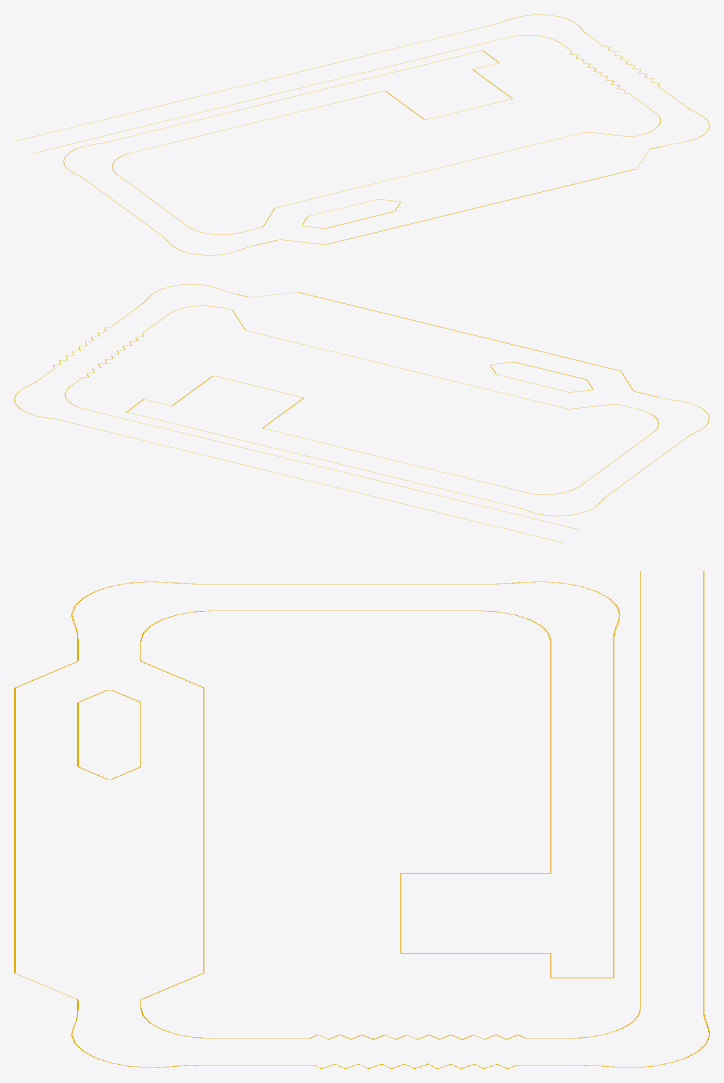
Rendered from yellow.dae.
The picture shows the model from 3 angles, top to bottom: view 1: azimuth 30°, elevation 25°; view 2: azimuth 150°, elevation 25°; view 3: azimuth 270°, elevation 25°; orthographic projection. The views are drawn at different scales.
Parts seen in each view (by area): view 1: paint-node; view 2: paint-node; view 3: paint-node.
Boxes of the visible parts, x1,y1,x2,y2 form: paint-node: (14,14,709,255); paint-node: (14,284,709,542); paint-node: (14,571,709,1068).
Size of the model in its own units: 9.72 by 5.74 by 0.
